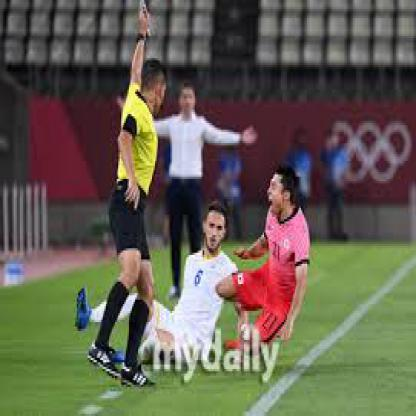Fall_Down: (213, 163, 313, 359)
